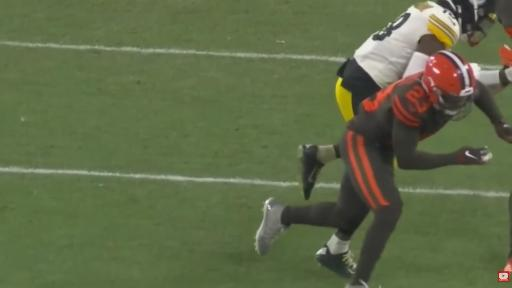Helmet: (422, 51, 476, 118), (437, 0, 496, 46)
Jersey: (354, 2, 460, 87), (348, 73, 450, 146)
Player: (256, 51, 511, 287), (336, 0, 511, 120)
